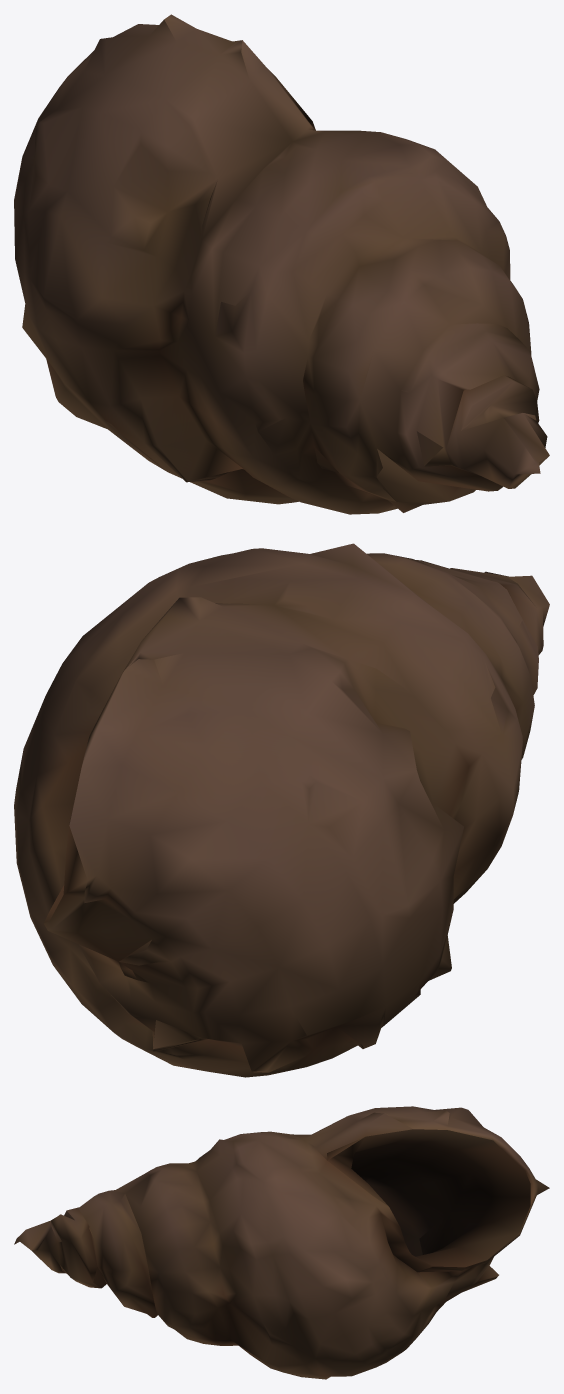
The model's file is underwater-shells-whelk-shell_v2.glb.
The picture shows the model from 3 angles, top to bottom: view 1: azimuth 30°, elevation 25°; view 2: azimuth 150°, elevation 25°; view 3: azimuth 270°, elevation 25°; orthographic projection. The views are drawn at different scales.
Visible parts, largest first — view 1: Whelk Shell_v2; view 2: Whelk Shell_v2; view 3: Whelk Shell_v2.
Boxes of the visible parts, x1=… form: Whelk Shell_v2: x1=14, y1=14, x2=549, y2=514; Whelk Shell_v2: x1=14, y1=543, x2=549, y2=1077; Whelk Shell_v2: x1=14, y1=1106, x2=549, y2=1379.
Bounding box in the file's own units: 0.0397 × 0.0421 × 0.08.
